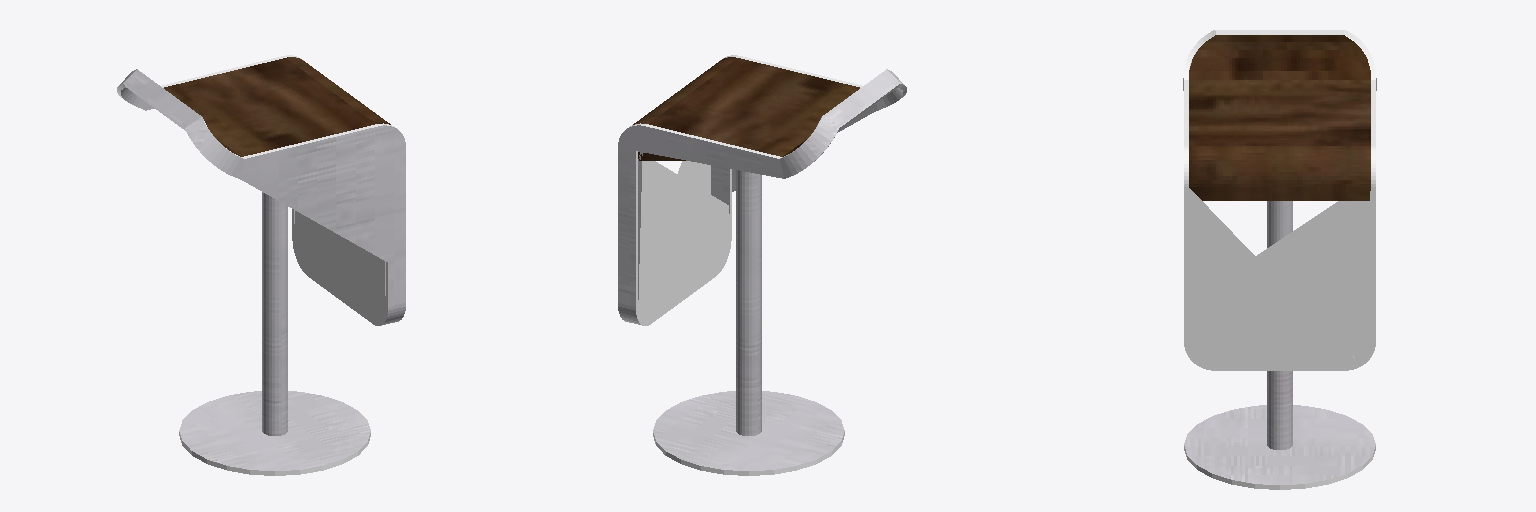
3 views of the same model, side by side, from view 1: azimuth 30°, elevation 25°; view 2: azimuth 150°, elevation 25°; view 3: azimuth 270°, elevation 25° (orthographic).
Parts seen in each view (by area): view 1: Mesh2 Group2 Model, Mesh4 Model, Mesh1 Group1 Model; view 2: Mesh2 Group2 Model, Mesh4 Model, Mesh1 Group1 Model; view 3: Mesh2 Group2 Model, Mesh1 Group1 Model, Mesh4 Model, Mesh3 Model.
Boxes of the visible parts, <box> form: Mesh2 Group2 Model: <box>117,55,405,325</box>; Mesh4 Model: <box>179,192,370,475</box>; Mesh1 Group1 Model: <box>164,57,390,156</box>; Mesh2 Group2 Model: <box>618,55,906,325</box>; Mesh4 Model: <box>653,170,844,475</box>; Mesh1 Group1 Model: <box>633,57,859,160</box>; Mesh2 Group2 Model: <box>1183,30,1376,370</box>; Mesh1 Group1 Model: <box>1189,80,1370,200</box>; Mesh4 Model: <box>1184,201,1375,489</box>; Mesh3 Model: <box>1189,35,1370,79</box>.
Bounding box in the file's own units: 455 × 784 × 374.
Materials: 3 (2 with a texture image).